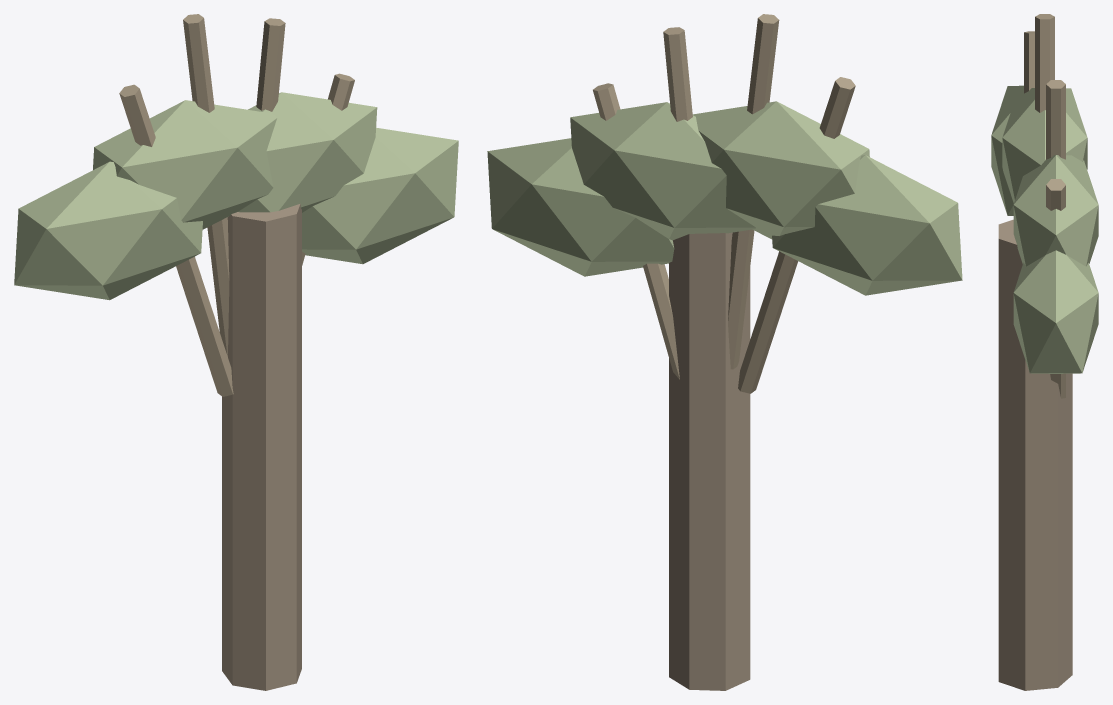
File: bent_willow_near-w4qXK9sD.glb
3 renders of one model, left to right at view 1: azimuth 30°, elevation 25°; view 2: azimuth 150°, elevation 25°; view 3: azimuth 270°, elevation 25°, orthographic. The views are drawn at different scales.
Parts seen in each view (by area): view 1: bent_willow_near; view 2: bent_willow_near; view 3: bent_willow_near.
Boxes of the visible parts, left/top/right/bottom form: bent_willow_near: left=14, top=14, right=458, bottom=690; bent_willow_near: left=487, top=14, right=962, bottom=690; bent_willow_near: left=991, top=14, right=1098, bottom=690.
Bounding box in the file's own units: 8.96 × 12.5 × 1.93.
